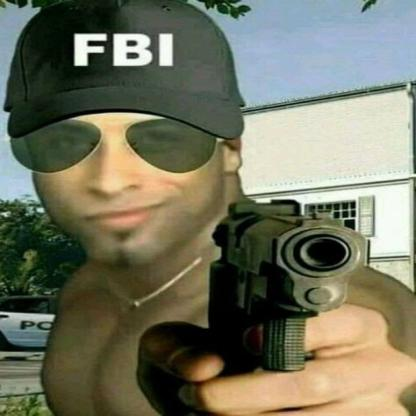handgun: (209, 199, 363, 372)
